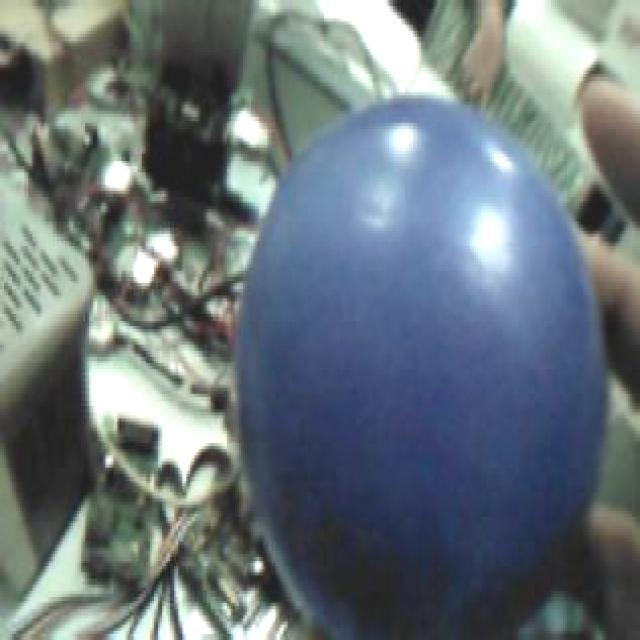BallPurple: (236, 97, 603, 640)
